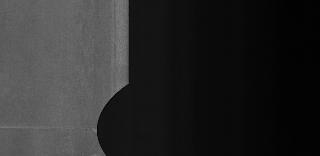welding line: (2, 124, 108, 134)
